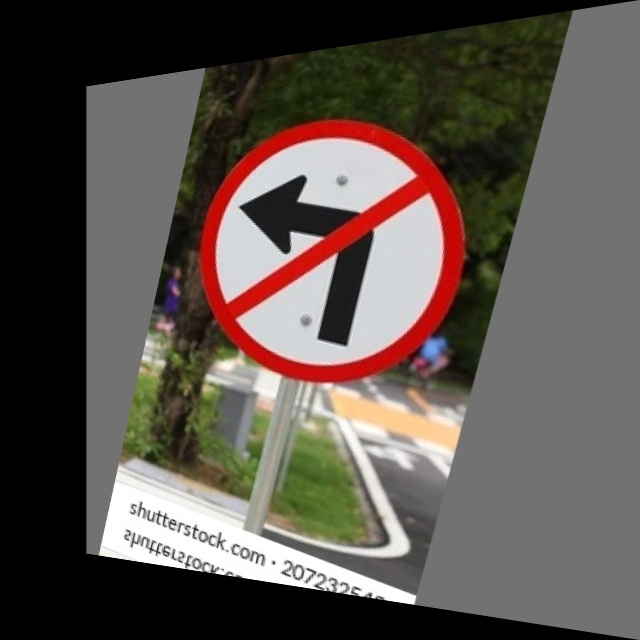Left_Turn_Prohibited: (175, 69, 500, 423)
